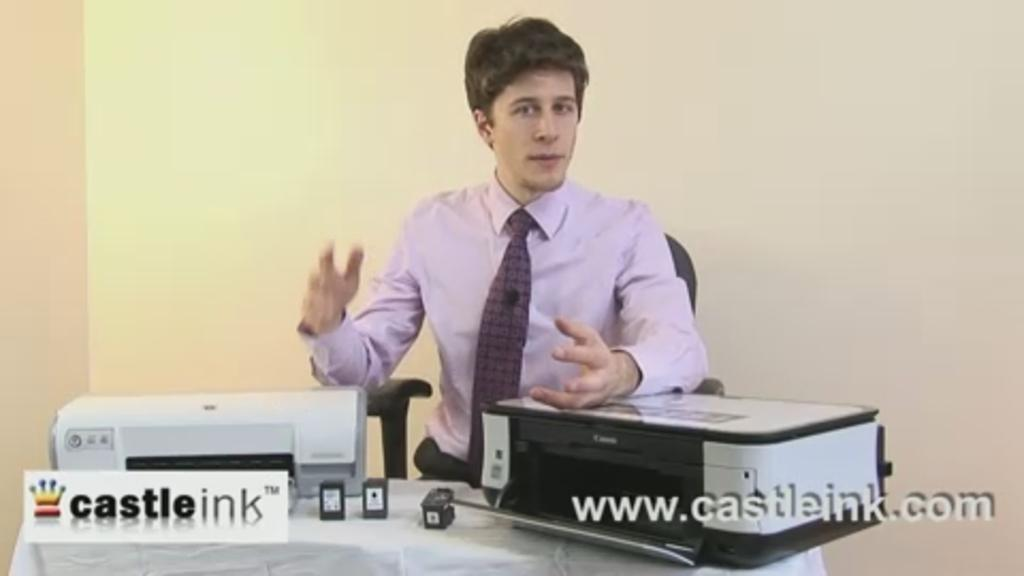Printer: (453, 388, 889, 568), (47, 384, 369, 497)
